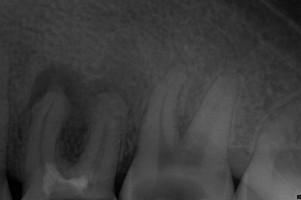Dental Caries: (16, 32, 153, 164)
